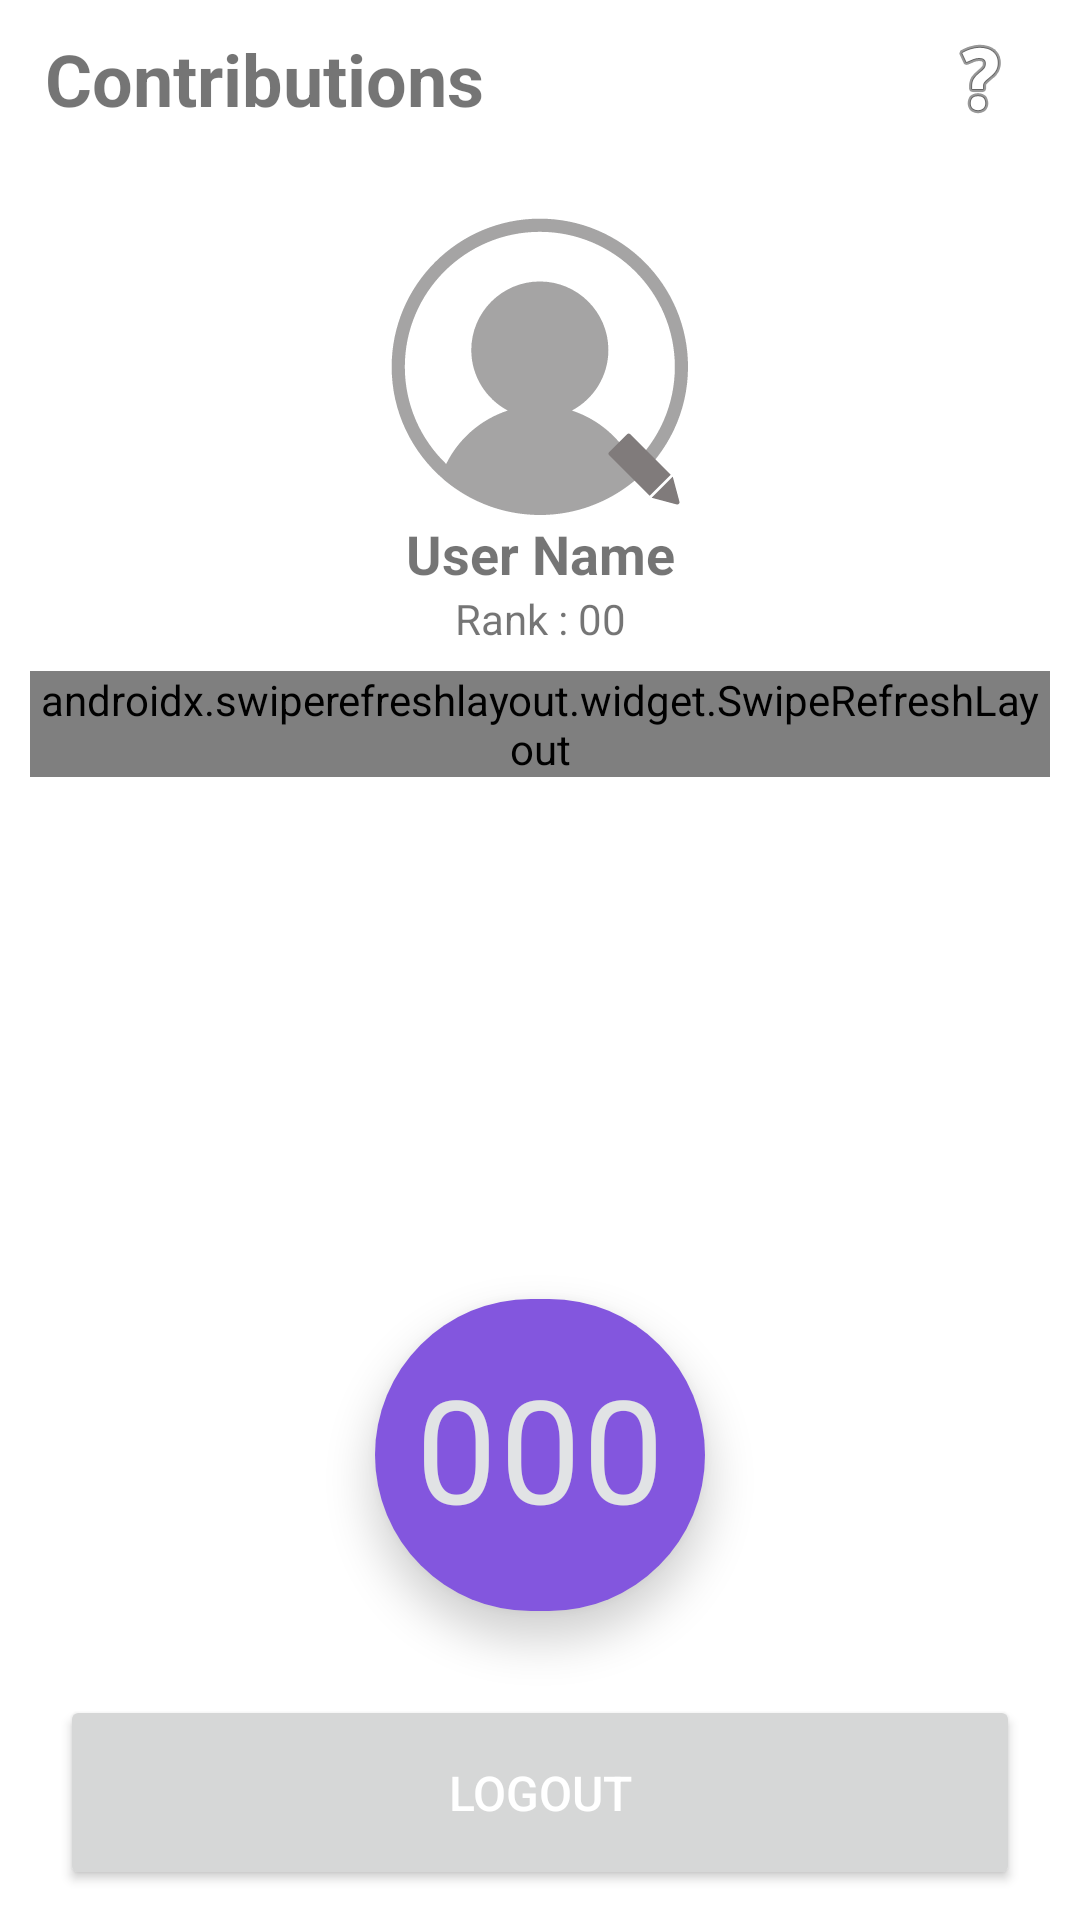

Screen size 1080w x 1920h. Icon name, then its center in pixels as [x,y]:
help: [980,79]
